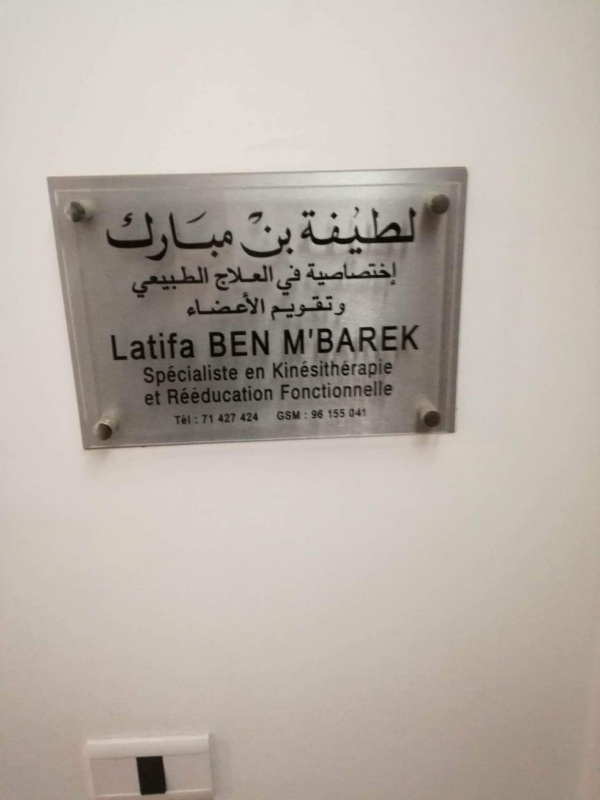text: (113, 210, 128, 263), (129, 210, 144, 263), (145, 210, 160, 263), (161, 210, 176, 263), (177, 210, 192, 263), (193, 210, 208, 263), (209, 210, 224, 263), (305, 206, 320, 257), (321, 206, 336, 257), (337, 206, 352, 257), (353, 206, 368, 257), (369, 206, 384, 257), (385, 206, 400, 257), (401, 206, 416, 257), (241, 211, 256, 260), (257, 211, 272, 260), (273, 211, 288, 260), (129, 265, 144, 300), (145, 265, 160, 300), (161, 265, 176, 300), (177, 265, 192, 300), (193, 265, 208, 300), (113, 329, 128, 363), (129, 329, 144, 363), (145, 329, 160, 363), (161, 329, 176, 363), (177, 329, 192, 363), (289, 323, 304, 356), (305, 323, 320, 356), (321, 323, 336, 356), (337, 323, 352, 356), (353, 323, 368, 356), (369, 323, 384, 356), (385, 323, 400, 356), (401, 323, 416, 356), (225, 210, 234, 263), (289, 264, 303, 298), (193, 290, 208, 321), (209, 290, 224, 321), (225, 290, 240, 321), (241, 290, 256, 321), (209, 329, 224, 360), (225, 329, 240, 360), (241, 329, 256, 360), (295, 206, 304, 257), (225, 263, 240, 293), (241, 263, 256, 293), (257, 263, 272, 293), (257, 329, 271, 360), (305, 259, 320, 287), (321, 259, 336, 287), (337, 259, 352, 287), (353, 259, 368, 287), (369, 259, 384, 287), (273, 294, 288, 322), (289, 294, 304, 322), (305, 294, 320, 322), (145, 364, 160, 389), (161, 364, 176, 389), (177, 364, 192, 389), (193, 364, 208, 389), (209, 364, 224, 389), (225, 364, 240, 389), (177, 383, 192, 408), (193, 383, 208, 408), (209, 383, 224, 408), (225, 383, 240, 408), (241, 383, 256, 408), (257, 383, 272, 408), (277, 264, 288, 298), (105, 210, 112, 263), (273, 357, 288, 381), (289, 357, 304, 381), (305, 357, 320, 381), (321, 357, 336, 381), (337, 357, 352, 381), (353, 357, 368, 381), (369, 357, 384, 381), (289, 379, 304, 402), (305, 379, 320, 402), (321, 379, 336, 402), (337, 379, 352, 402), (353, 379, 368, 402), (369, 379, 384, 402), (385, 259, 397, 287), (321, 294, 333, 322), (213, 263, 224, 293), (257, 290, 267, 321), (289, 211, 295, 260), (183, 290, 192, 321), (145, 391, 160, 408), (166, 383, 176, 408), (385, 357, 394, 381), (279, 379, 288, 402), (385, 379, 394, 402), (236, 211, 240, 260), (177, 413, 191, 426), (244, 366, 256, 381), (283, 323, 288, 356), (241, 412, 256, 423), (417, 206, 420, 257), (337, 301, 347, 316), (225, 412, 237, 424), (353, 407, 366, 418), (209, 265, 213, 300), (257, 366, 266, 381), (417, 323, 421, 356), (276, 410, 288, 421), (289, 410, 301, 421), (194, 416, 208, 425), (109, 329, 112, 363), (193, 329, 196, 363), (311, 409, 320, 420), (201, 413, 208, 425), (217, 412, 224, 424), (327, 409, 336, 418), (209, 413, 215, 425), (337, 409, 345, 418), (273, 263, 275, 293), (332, 301, 336, 316), (270, 294, 272, 322), (348, 407, 352, 418), (173, 413, 176, 426), (127, 265, 128, 300), (321, 409, 324, 420), (207, 329, 208, 360), (303, 259, 304, 287), (143, 364, 144, 389), (273, 383, 274, 408), (305, 412, 308, 420), (257, 412, 259, 423), (161, 391, 162, 408), (303, 412, 304, 420)
